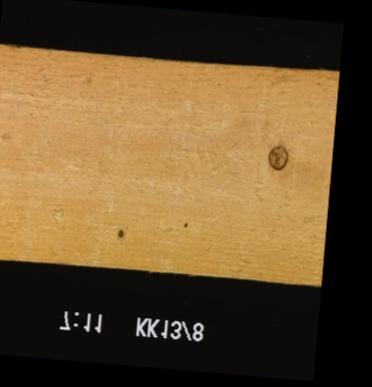dry_knot: (264, 142, 288, 171)
small_knot: (114, 225, 124, 240)
